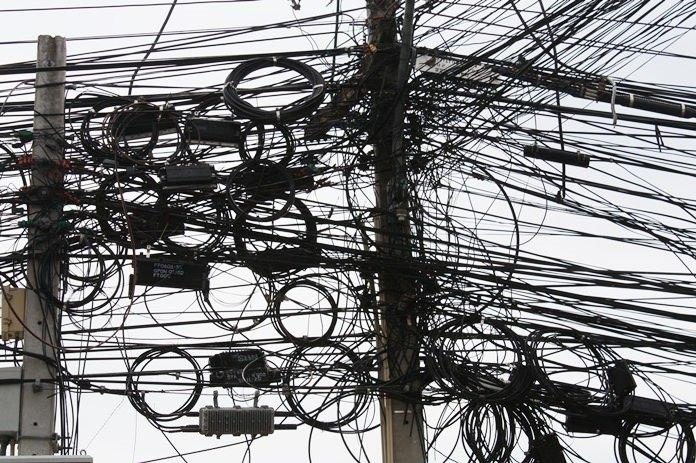wires: (409, 0, 696, 463), (63, 63, 378, 415)
